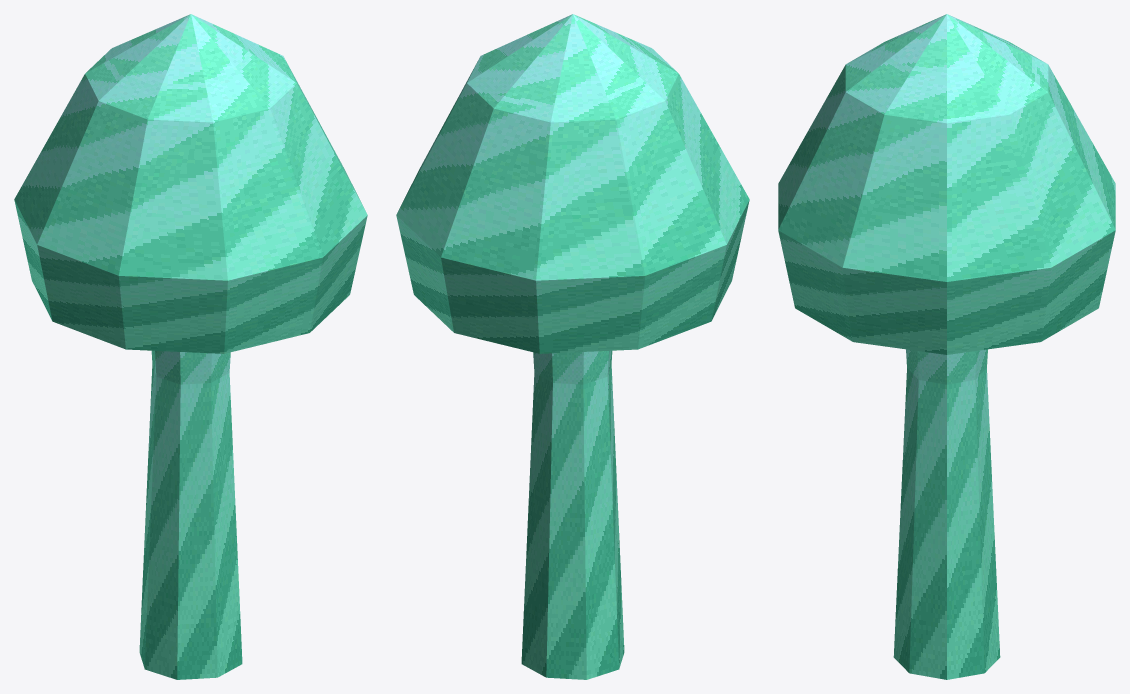
The model's file is cogumelo_lume.glb.
The picture shows the model from 3 angles, left to right: view 1: azimuth 30°, elevation 25°; view 2: azimuth 150°, elevation 25°; view 3: azimuth 270°, elevation 25°; orthographic projection.
Visible parts, largest first — view 1: cogumelo_lume; view 2: cogumelo_lume; view 3: cogumelo_lume.
Boxes of the visible parts, left/top/right/bottom form: cogumelo_lume: left=14, top=14, right=367, bottom=679; cogumelo_lume: left=396, top=14, right=749, bottom=679; cogumelo_lume: left=778, top=14, right=1115, bottom=679.
Bounding box in the file's own units: 0.38 × 0.76 × 0.3614.
1 material, 1 textured.
